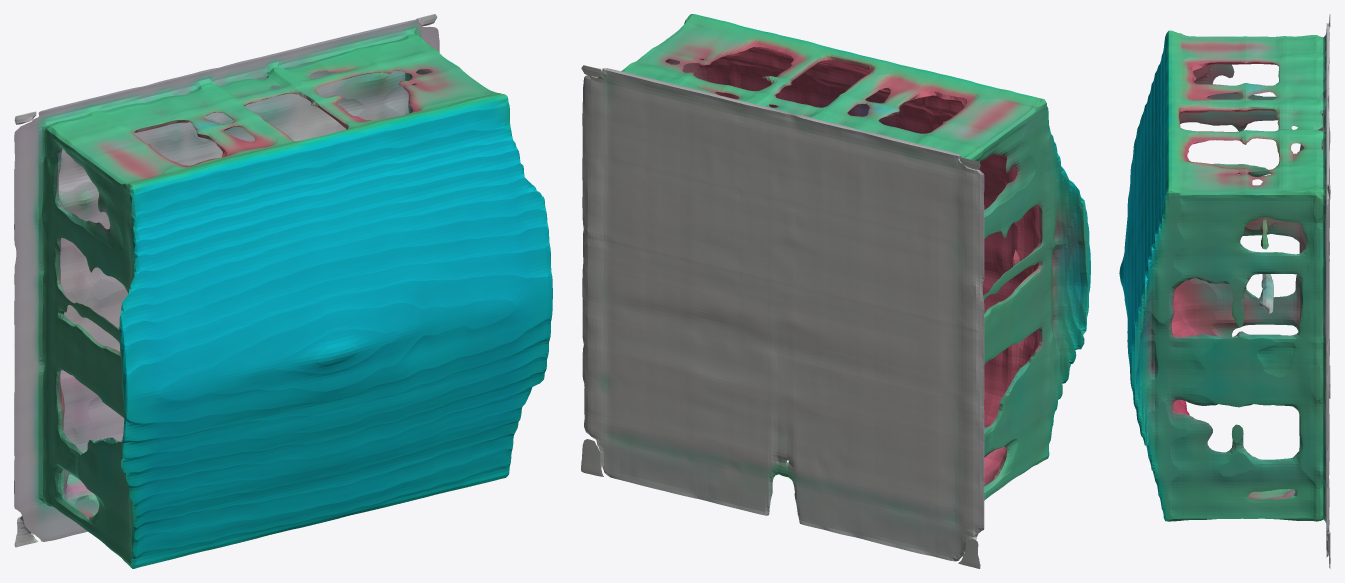
3 views of the same model, side by side, from view 1: azimuth 30°, elevation 25°; view 2: azimuth 150°, elevation 25°; view 3: azimuth 270°, elevation 25° (orthographic). The views are drawn at different scales.
Visible parts, largest first — view 1: model.ply; view 2: model.ply; view 3: model.ply.
Part boxes in pixels (left/top/right/bottom): model.ply: left=14, top=14, right=552, bottom=568; model.ply: left=581, top=14, right=1090, bottom=568; model.ply: left=1119, top=14, right=1330, bottom=568.
Bounding box in the file's own units: 1.98 × 1.92 × 0.9721.
